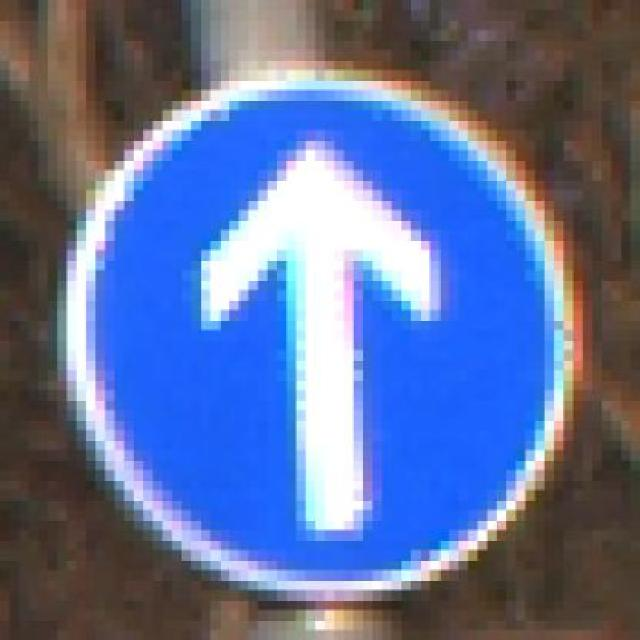Straight Ahead Only: (39, 39, 592, 610)
